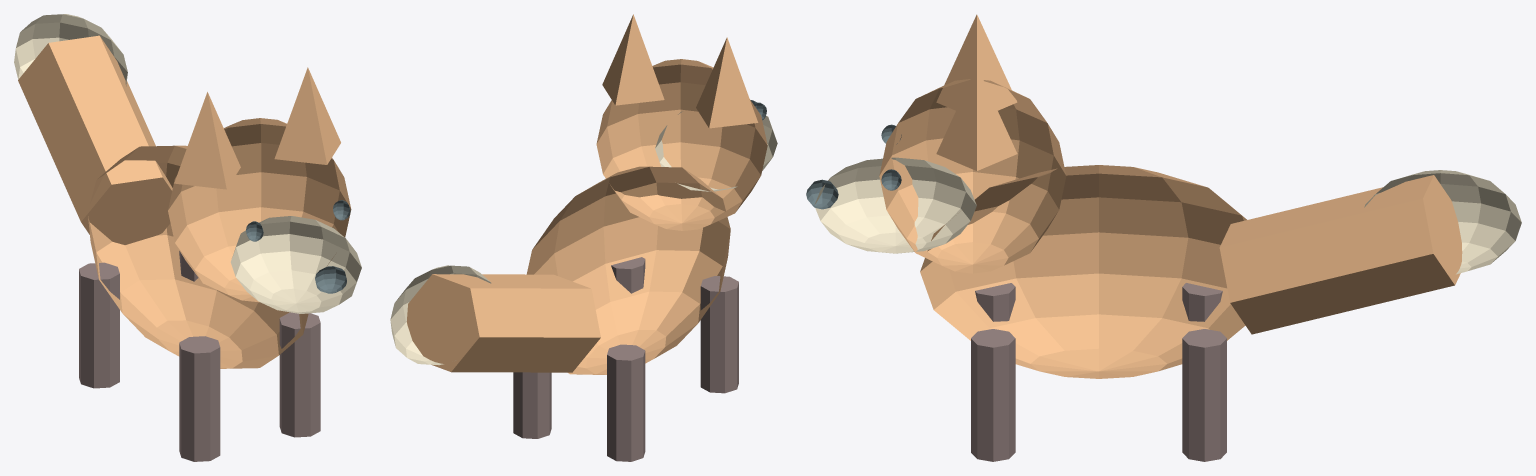
The model's file is meadow-courier-garden-fox__33.glb.
3 views of the same model, side by side, from view 1: azimuth 30°, elevation 25°; view 2: azimuth 150°, elevation 25°; view 3: azimuth 270°, elevation 25° (orthographic). The views are drawn at different scales.
Visible parts, largest first — view 1: meadow-courier-garden-fox; view 2: meadow-courier-garden-fox; view 3: meadow-courier-garden-fox.
Part boxes in pixels (x1,y1,x2,y2): meadow-courier-garden-fox: (14,14,361,461); meadow-courier-garden-fox: (390,14,777,461); meadow-courier-garden-fox: (806,14,1521,461).
Size of the model in its own units: 0.5 by 1.05 by 1.76.
